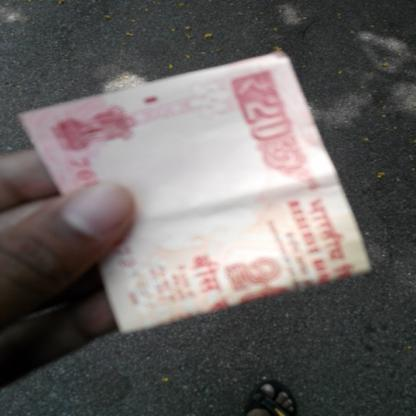Old20Front: (16, 48, 371, 336)
